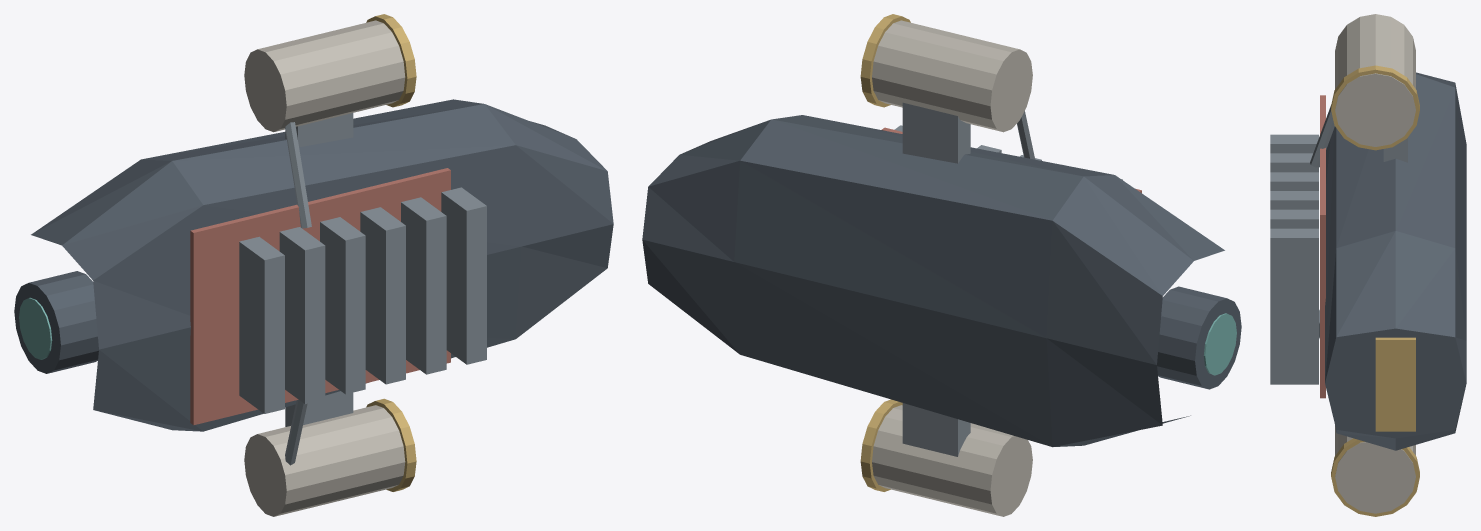
File: 08_kilnback.glb
3 views of the same model, side by side, from view 1: azimuth 30°, elevation 25°; view 2: azimuth 150°, elevation 25°; view 3: azimuth 270°, elevation 25° (orthographic). The views are drawn at different scales.
Parts seen in each view (by area): view 1: HULL_001, part_002, part_014, part_010, part_003, part_004, part_005, part_006, part_007, part_008, part_018, part_019 (+6 smaller); view 2: HULL_001, part_014, part_010, part_018, part_013, part_009, part_019, part_015, part_011; view 3: HULL_001, part_014, part_008, part_010, part_017, part_002, part_015, part_011, part_007, part_003, part_005, part_006 (+3 smaller).
Boxes of the visible parts, x1=… form: HULL_001: x1=31, y1=99, x2=613, y2=431; part_002: x1=190, y1=168, x2=450, y2=425; part_014: x1=244, y1=20, x2=405, y2=132; part_010: x1=244, y1=405, x2=405, y2=516; part_003: x1=239, y1=236, x2=284, y2=413; part_004: x1=279, y1=227, x2=325, y2=404; part_005: x1=320, y1=217, x2=365, y2=394; part_006: x1=360, y1=207, x2=405, y2=384; part_007: x1=401, y1=197, x2=446, y2=374; part_008: x1=441, y1=187, x2=486, y2=364; part_018: x1=14, y1=271, x2=98, y2=373; part_019: x1=19, y1=297, x2=52, y2=359; HULL_001: x1=642, y1=115, x2=1224, y2=447; part_014: x1=872, y1=20, x2=1032, y2=132; part_010: x1=872, y1=405, x2=1032, y2=516; part_018: x1=1157, y1=286, x2=1241, y2=389; part_013: x1=902, y1=102, x2=970, y2=163; part_009: x1=902, y1=403, x2=970, y2=456; part_019: x1=1203, y1=313, x2=1236, y2=375; part_015: x1=860, y1=14, x2=910, y2=107; part_011: x1=860, y1=399, x2=902, y2=491; HULL_001: x1=1325, y1=72, x2=1466, y2=450; part_014: x1=1335, y1=14, x2=1415, y2=146; part_008: x1=1270, y1=228, x2=1318, y2=384; part_010: x1=1335, y1=425, x2=1415, y2=513; part_017: x1=1375, y1=337, x2=1415, y2=431; part_002: x1=1320, y1=95, x2=1325, y2=398; part_015: x1=1331, y1=65, x2=1419, y2=150; part_011: x1=1331, y1=438, x2=1419, y2=516; part_007: x1=1270, y1=209, x2=1318, y2=228; part_003: x1=1270, y1=134, x2=1318, y2=153; part_005: x1=1270, y1=172, x2=1318, y2=190; part_006: x1=1270, y1=191, x2=1318, y2=209.
Bounding box in the file's own units: 29.72 × 24.4 × 9.7.
